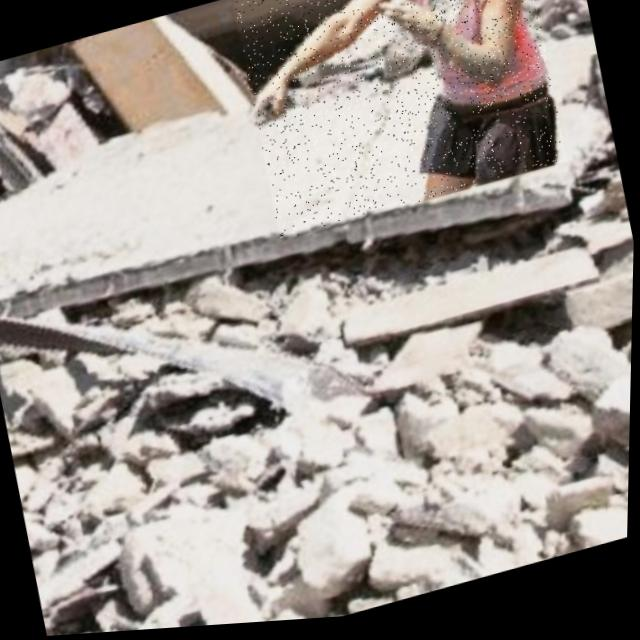Person in Rubble: (228, 0, 571, 246)
